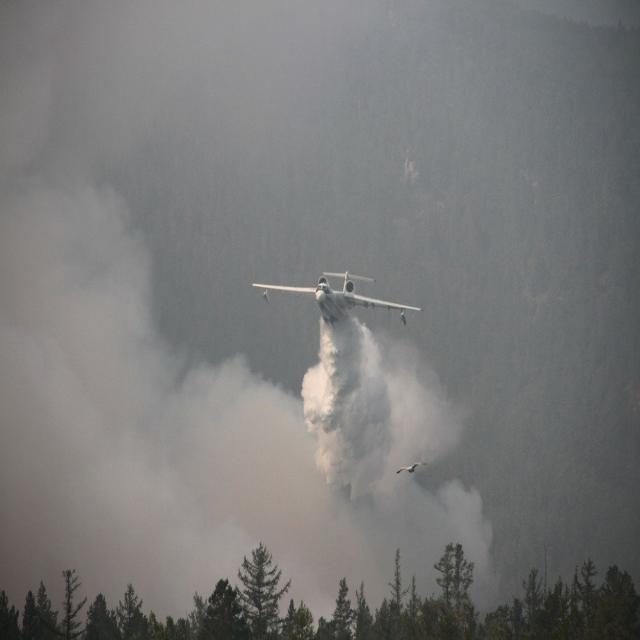MIL_Plane: (0, 271, 169, 327)
